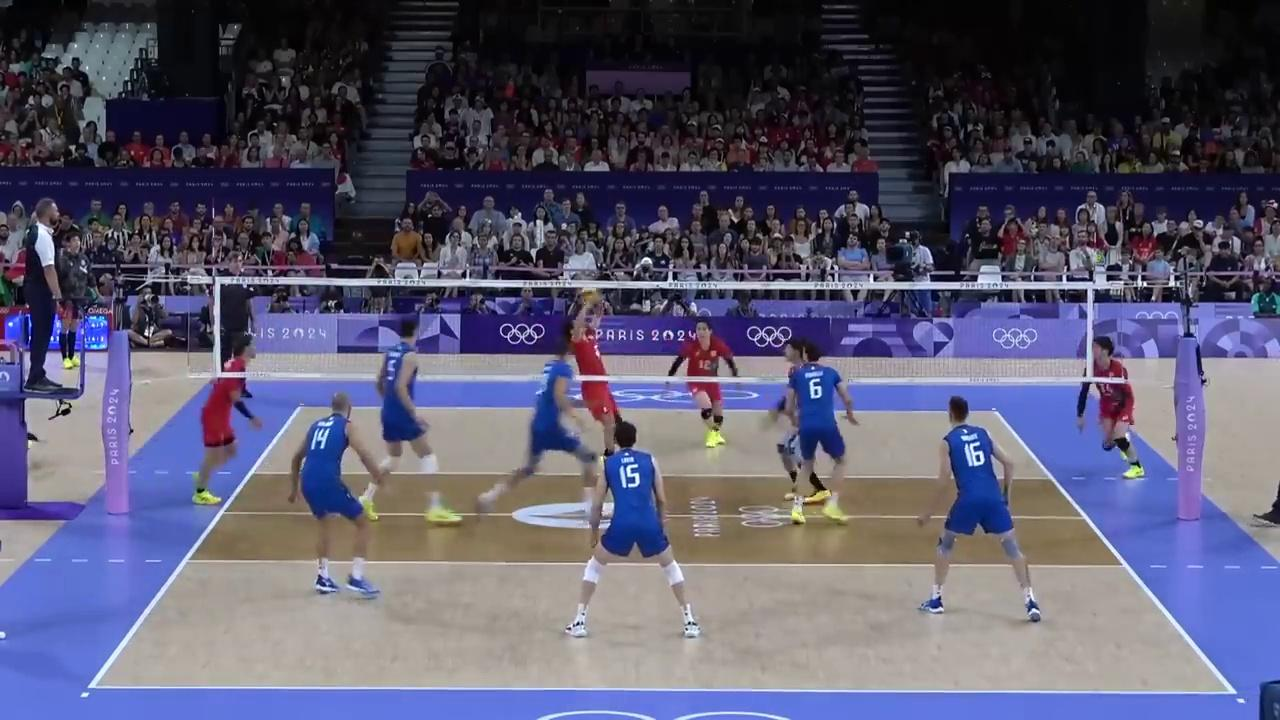ball: (580, 286, 602, 307)
